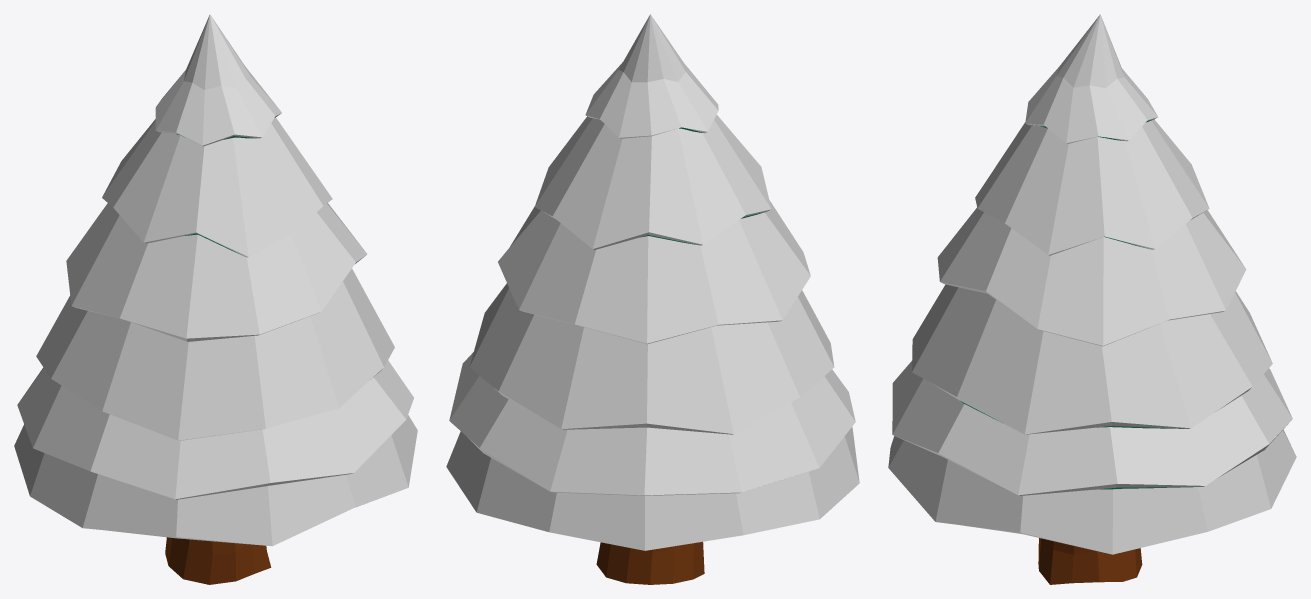
The model's file is Winter tree.fbx.
3 views of the same model, side by side, from view 1: azimuth 30°, elevation 25°; view 2: azimuth 150°, elevation 25°; view 3: azimuth 270°, elevation 25° (orthographic). The views are drawn at different scales.
Parts seen in each view (by area): view 1: Tree Base; view 2: Tree Base; view 3: Tree Base.
Part boxes in pixels (x1,y1,x2,y2): Tree Base: (14,14,417,584); Tree Base: (446,14,859,584); Tree Base: (888,14,1296,584).
Bounding box in the file's own units: 7.81 × 11.7 × 7.79.
